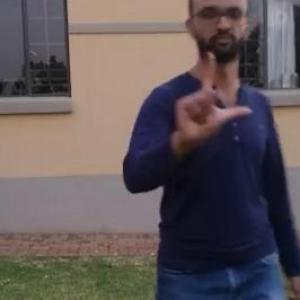land_hand: (166, 45, 254, 149)
